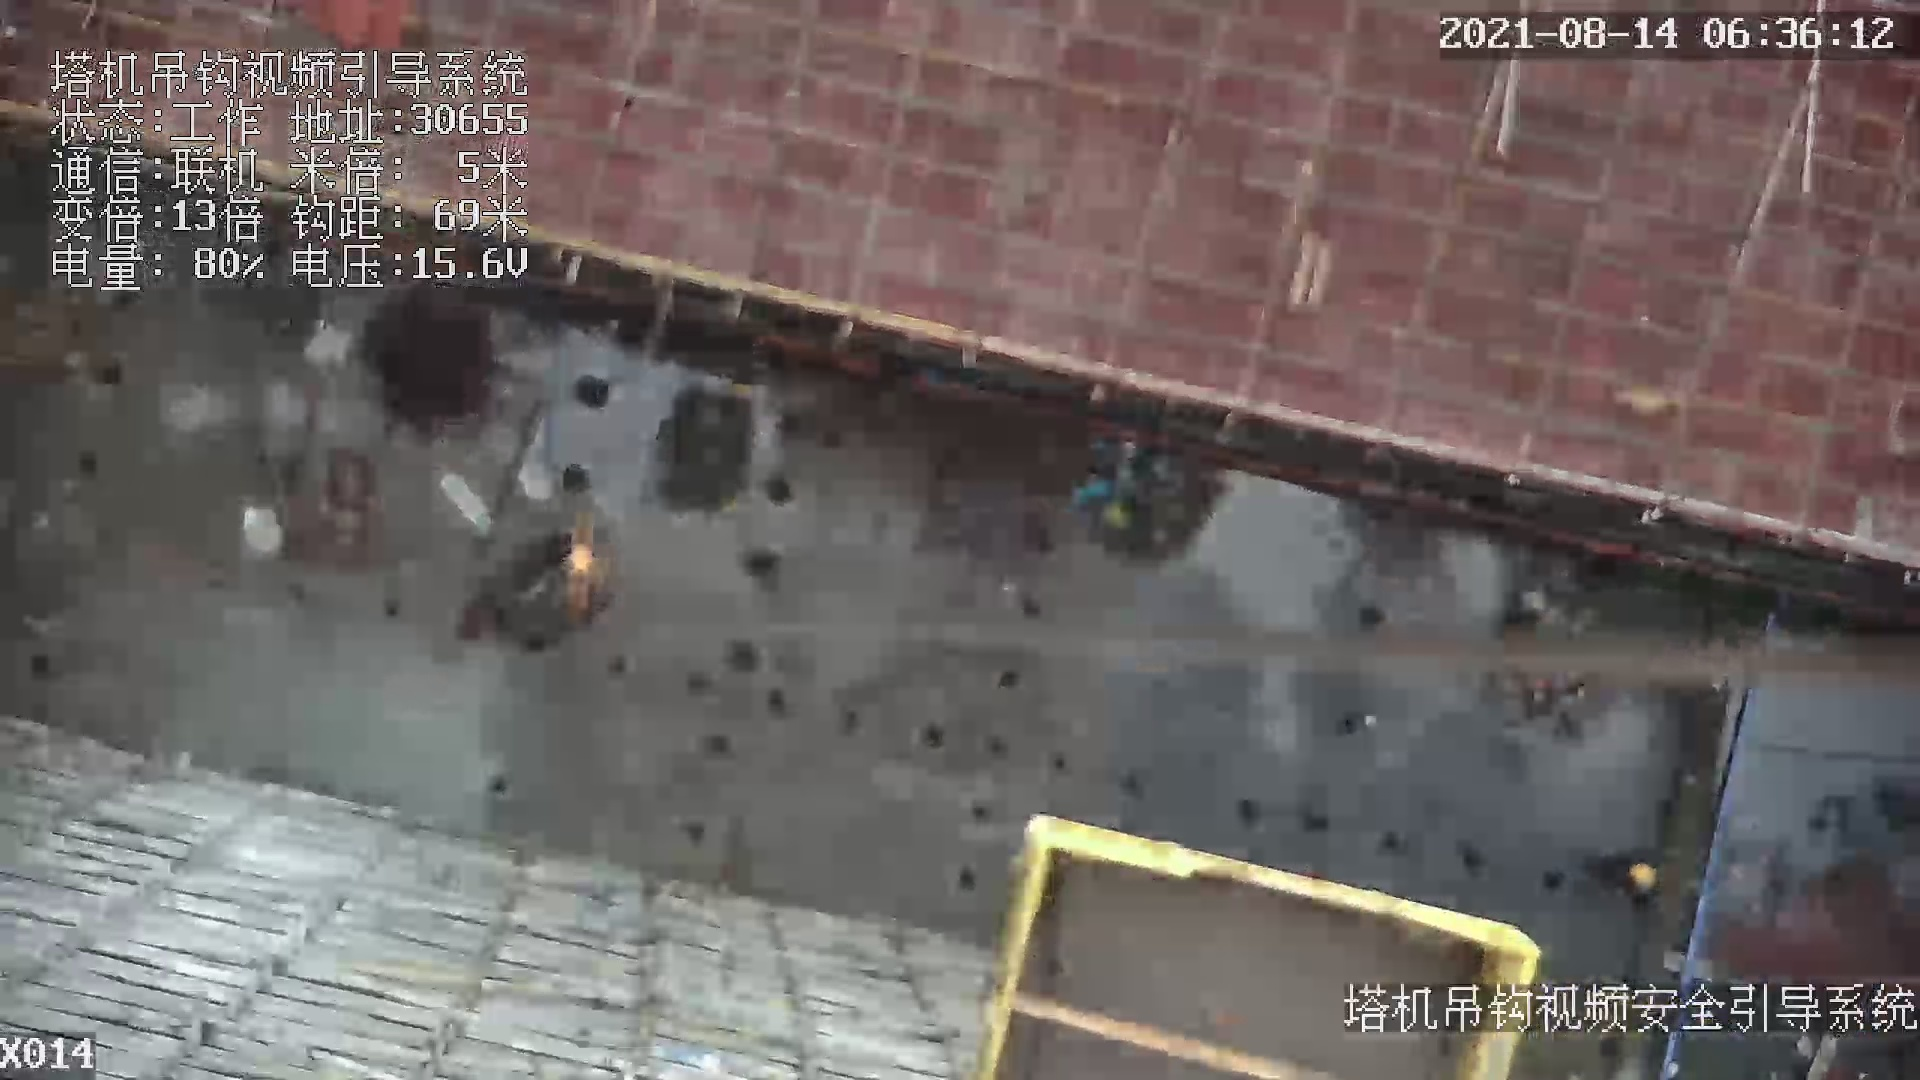hook: (563, 515, 597, 632)
person: (1585, 842, 1668, 914)
